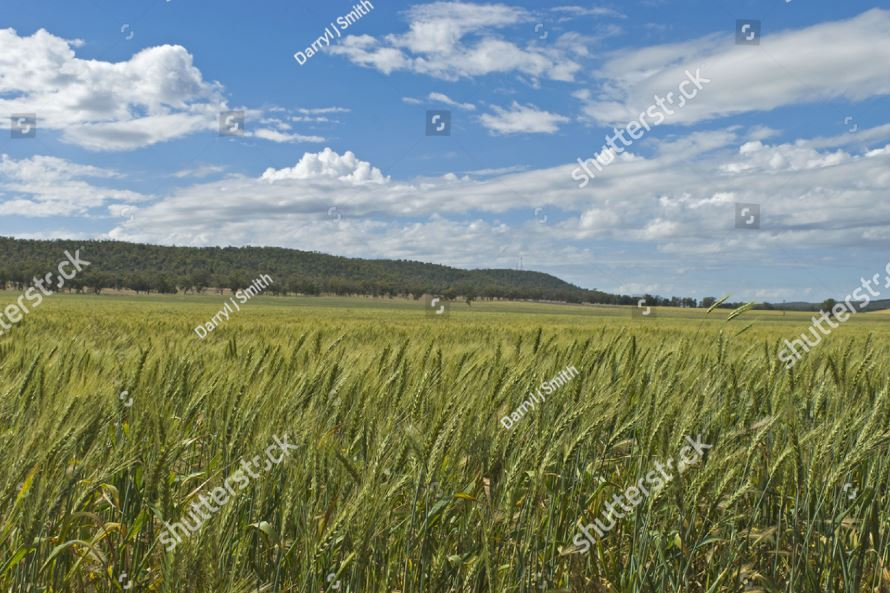Wheat: (280, 335, 776, 546)
